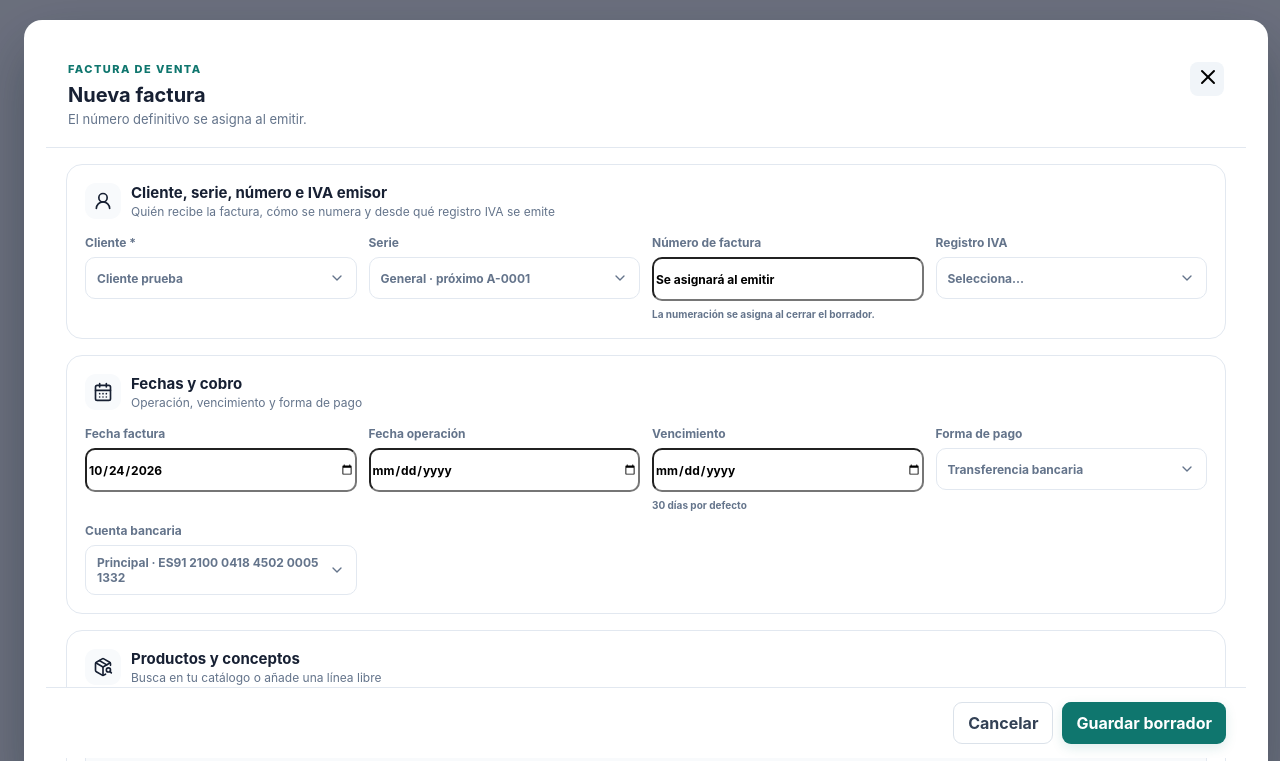
Test: does not offer a no-bank override that the server would replace with a default
Click the dropdown named "Cuenta bancaria".
click(221, 570)  # box [85, 545, 356, 595]
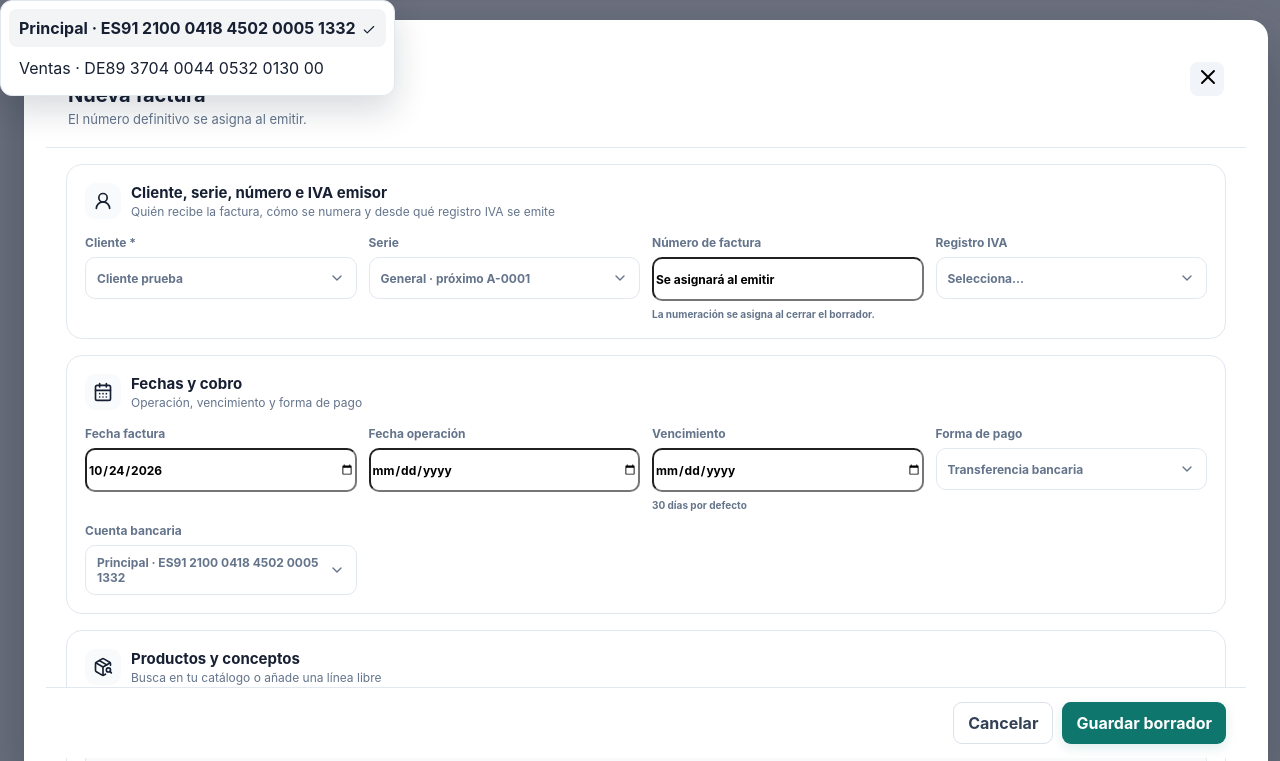
Expected: the option "Ventas · DE89 3704 0044 0532 0130 00" is shown, [9, 49, 386, 87]
